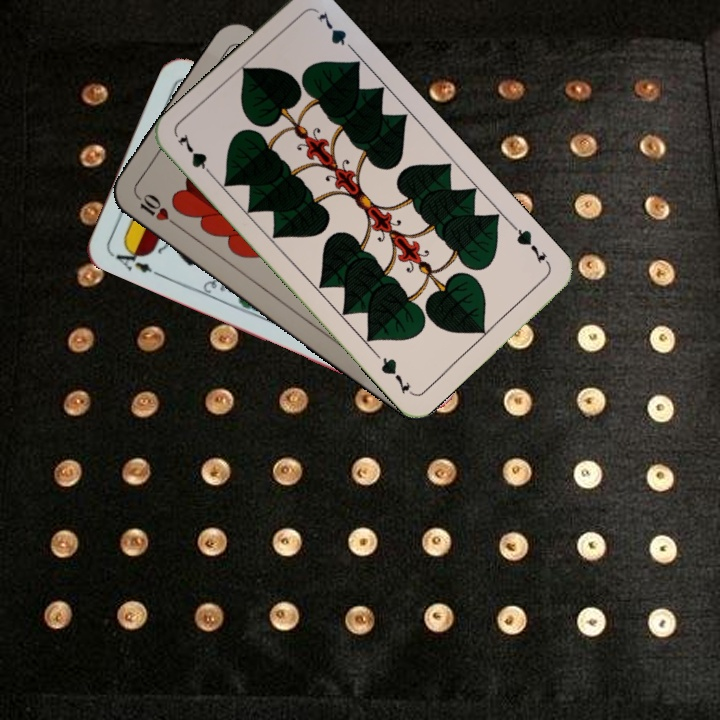EA: (106, 241, 163, 279)
G7: (173, 130, 218, 182), (508, 221, 553, 269)
H10: (131, 190, 182, 231)
